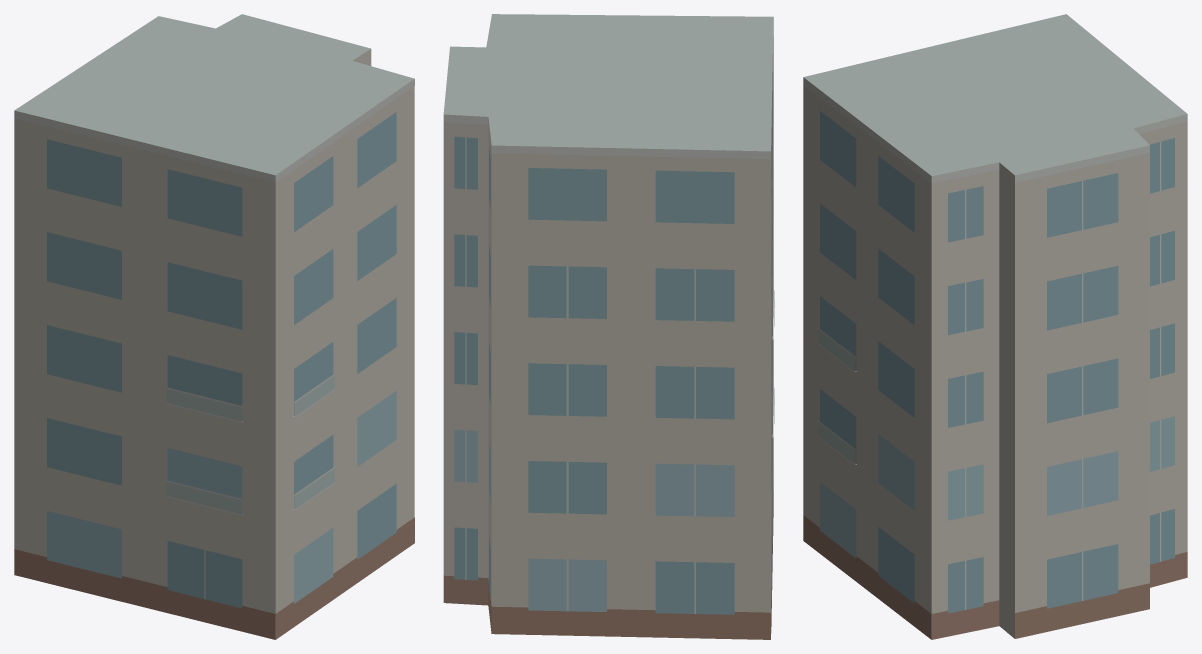
File: survey-upis-32761892.glb
3 renders of one model, left to right at view 1: azimuth 30°, elevation 25°; view 2: azimuth 150°, elevation 25°; view 3: azimuth 270°, elevation 25°, orthographic. The views are drawn at different scales.
Parts seen in each view (by area): view 1: survey-upis-32761892.tmp; view 2: survey-upis-32761892.tmp; view 3: survey-upis-32761892.tmp.
Boxes of the visible parts, bbox=[...] form: survey-upis-32761892.tmp: bbox=[14, 14, 414, 639]; survey-upis-32761892.tmp: bbox=[443, 14, 774, 639]; survey-upis-32761892.tmp: bbox=[803, 14, 1187, 639].
Bounding box in the file's own units: 11.52 × 15.35 × 11.54.
